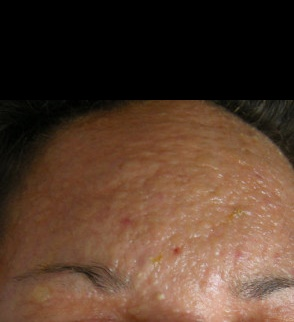SJS-TEN: (0, 89, 294, 322)
